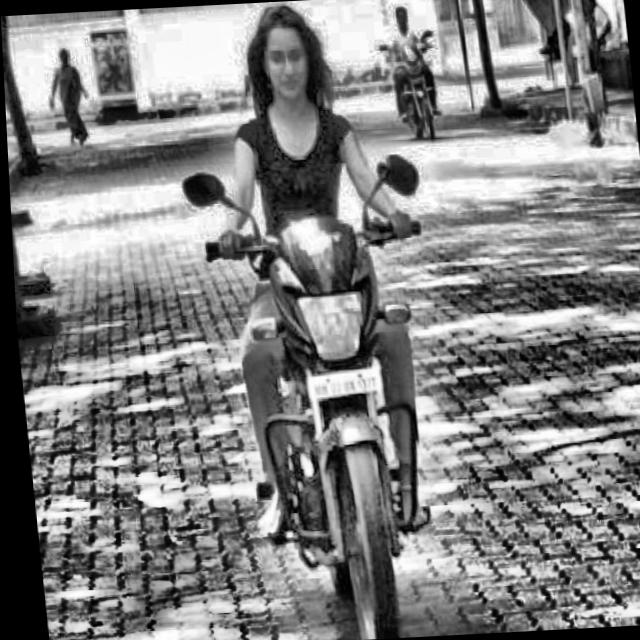motorcycle: (168, 147, 480, 640)
